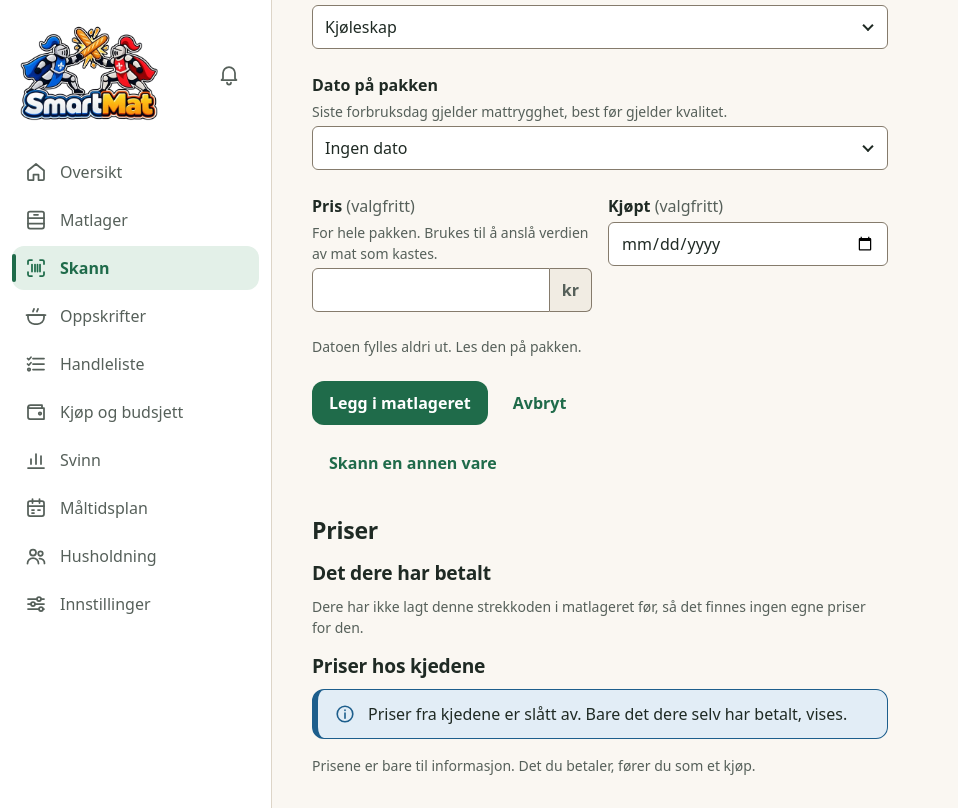
Test: FR-SCAN-002/-005 from lookup to the pantry › the item from last time: "new batch" is chosen; the item fields are hidden
(page scrolled)
Click the button "Legg i matlageret" at x=400, y=404, box [312,382,488,426]
(page scrolled)
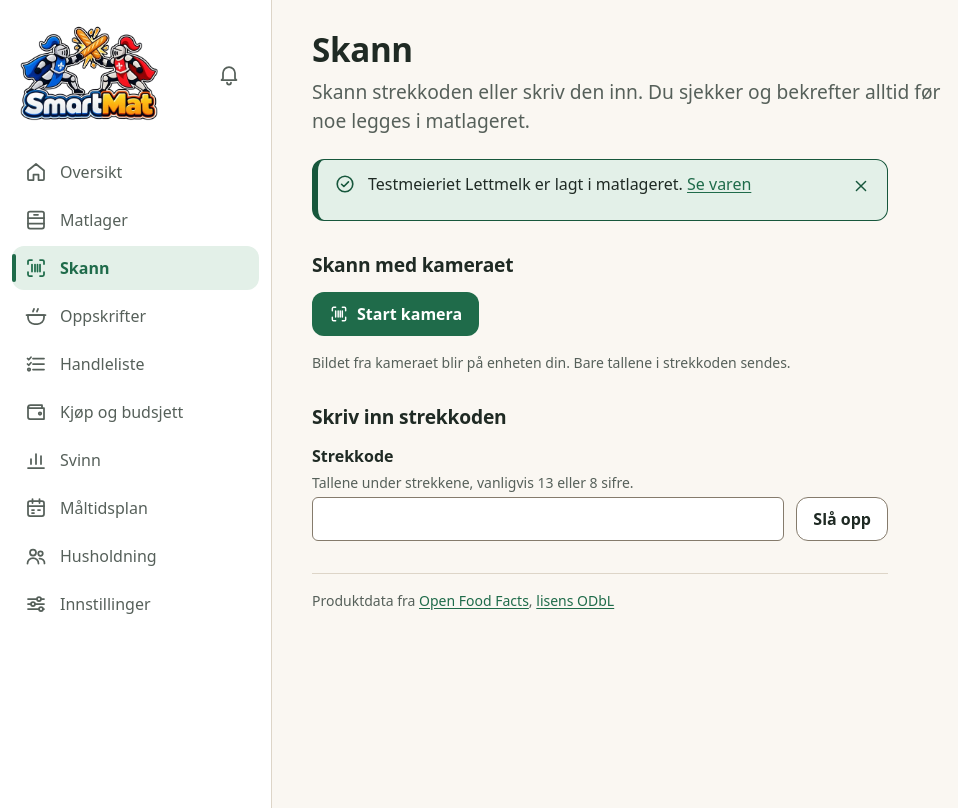
Now the text "Testmeieriet Lettmelk er lagt i matlageret. Se varen" is shown, box [368,173,751,195]
